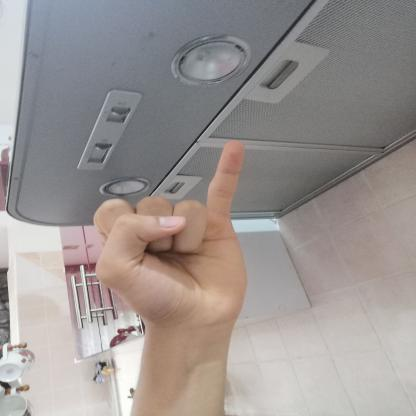MEEM: (73, 130, 265, 336)
